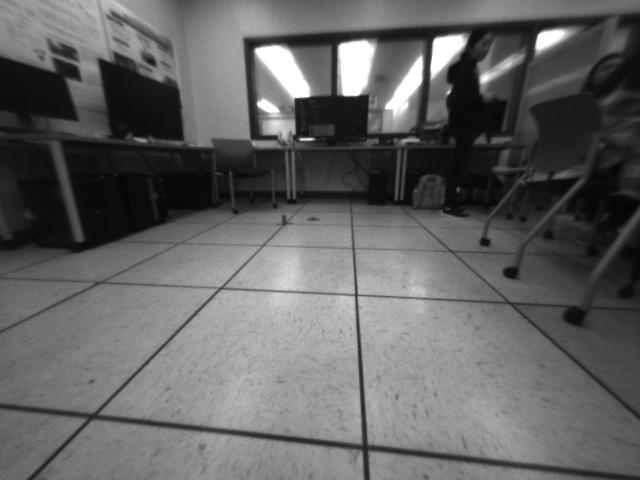X: (273, 213, 294, 228)
